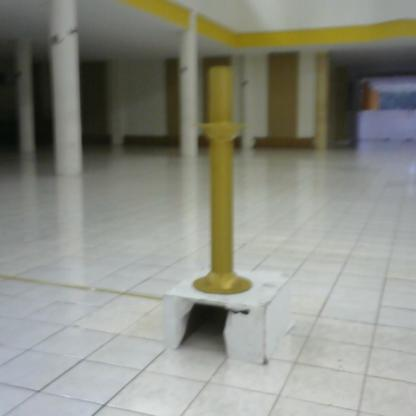pole: (189, 61, 262, 302)
